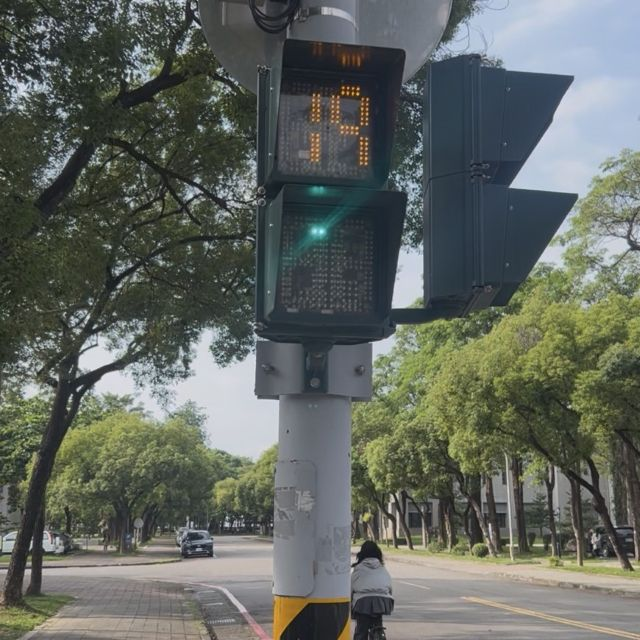green_light: (259, 38, 401, 338)
